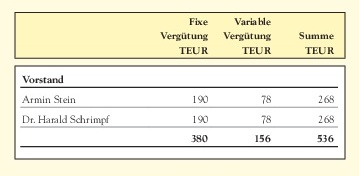table: (0, 0, 359, 176)
